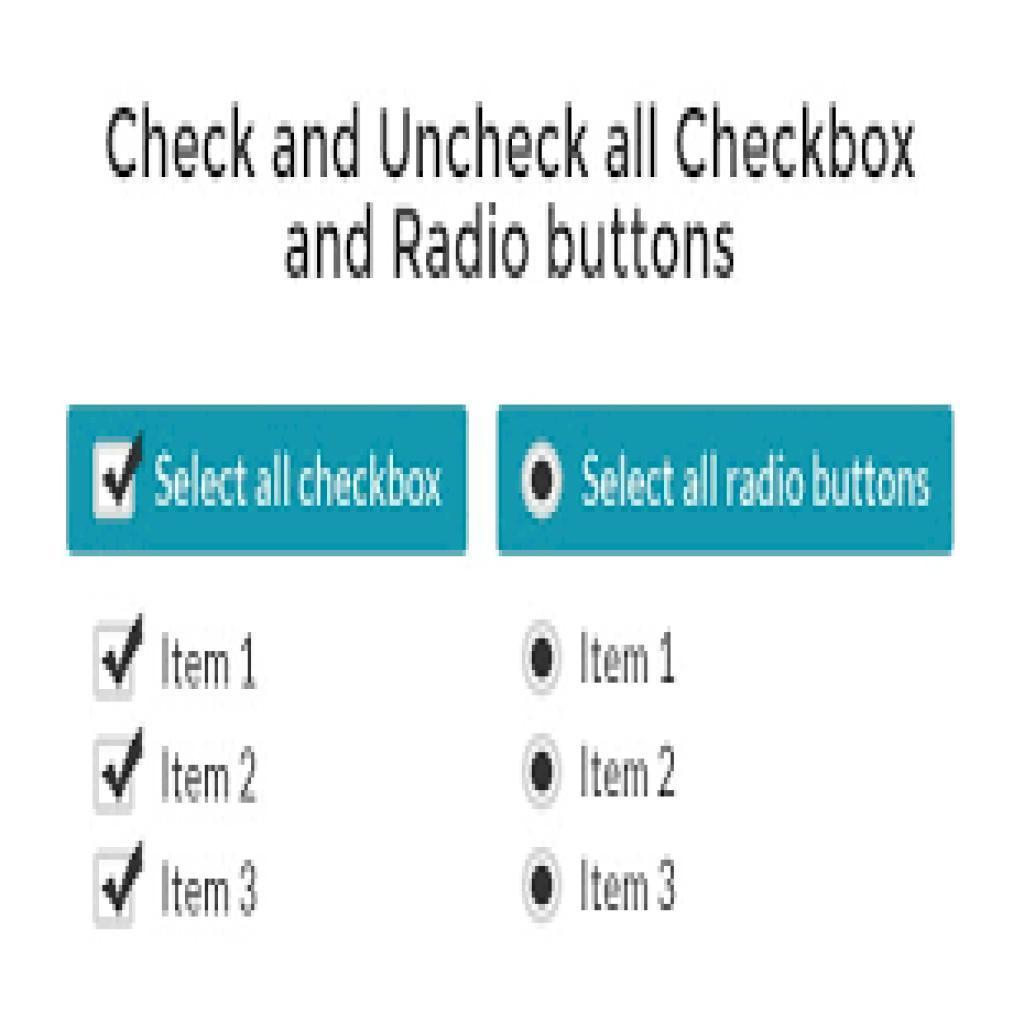checkbox: (95, 740, 143, 814), (93, 623, 139, 700), (95, 443, 138, 520), (96, 852, 134, 925)
label: (585, 444, 937, 518), (157, 449, 447, 514), (159, 855, 281, 920), (156, 739, 262, 807), (575, 735, 675, 807), (576, 851, 683, 917), (579, 626, 680, 691), (154, 629, 259, 688)
radio: (520, 615, 569, 699), (519, 441, 564, 525), (521, 843, 563, 923), (524, 729, 563, 811)
